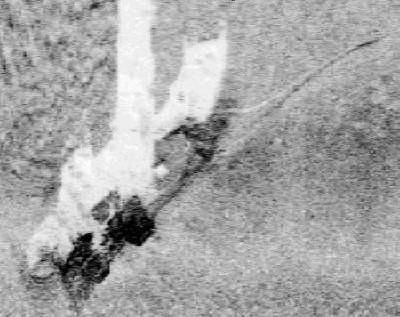ship: (28, 2, 227, 283)
